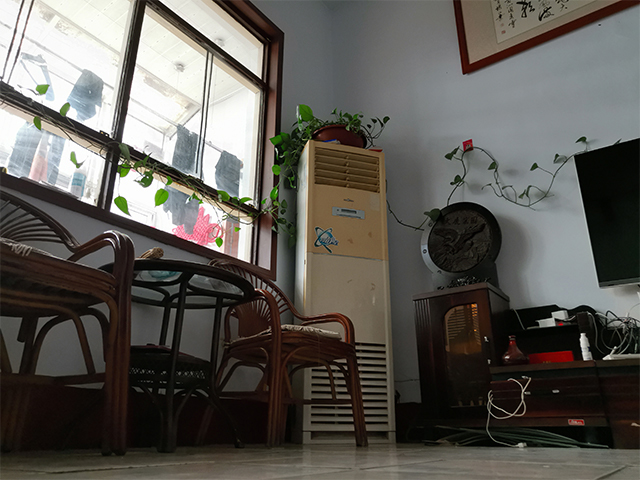cabinet: (408, 278, 640, 452)
stool: (1, 189, 138, 457), (204, 255, 370, 449)
table: (96, 256, 258, 455)
wire: (484, 374, 533, 449)
